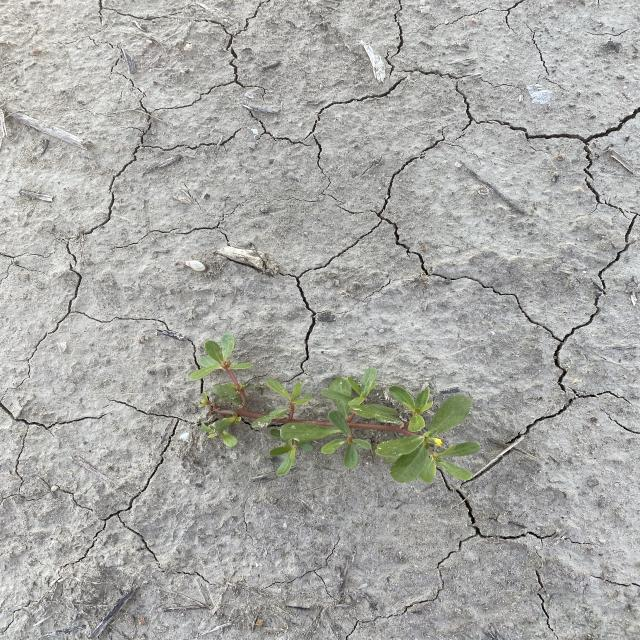Purslane: (184, 331, 484, 484)
